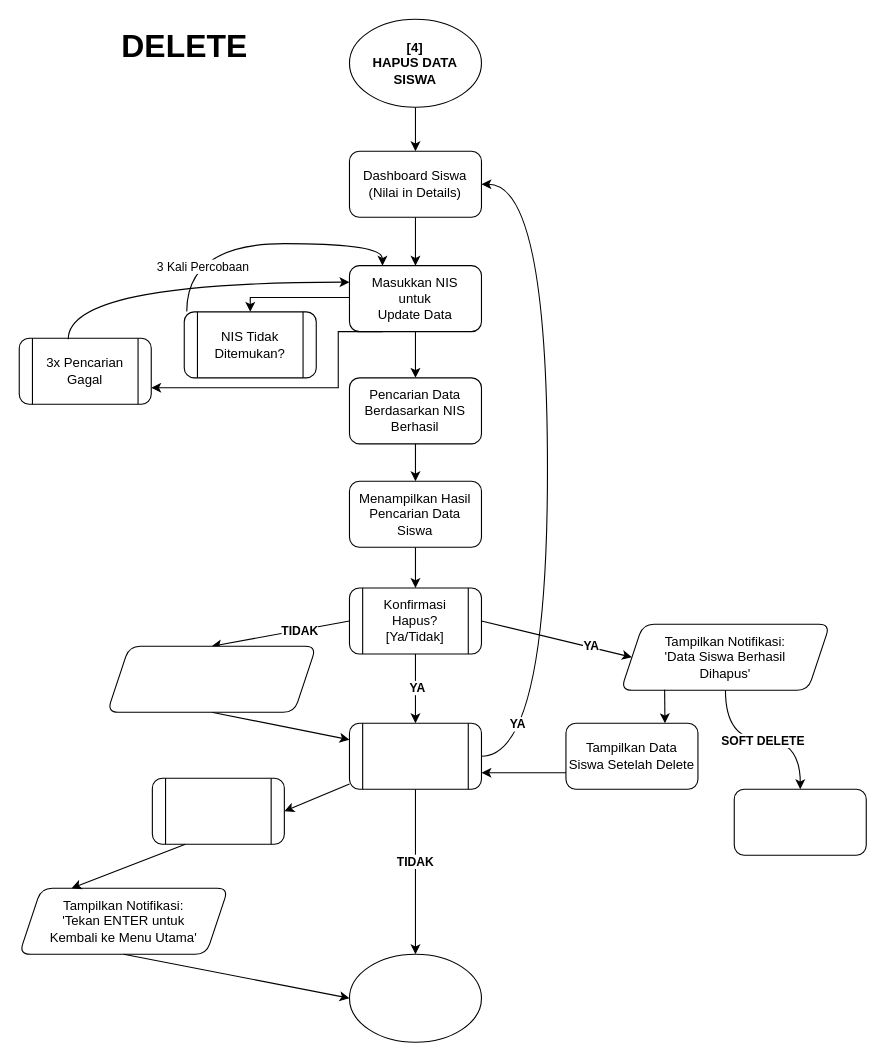
The diagram is 886 pixels wide and 1062 high, and some of its shapes have lost their labels. The box of each missing label's shape, as (x1, y1, x2, y2) in pixels:
Input Tidak Dikenali?: (151, 777, 284, 844)
KEMBALI KE MENU UTAMA: (348, 953, 481, 1042)
Lanjutkan Hapus Data? [Ya/Tidak]: (348, 722, 481, 789)
Recycle Bin: (733, 788, 866, 855)
Tampilkan Notifikasi: 'Penghapusan Data Siswa telah Dibatalkan ': (106, 645, 316, 712)
